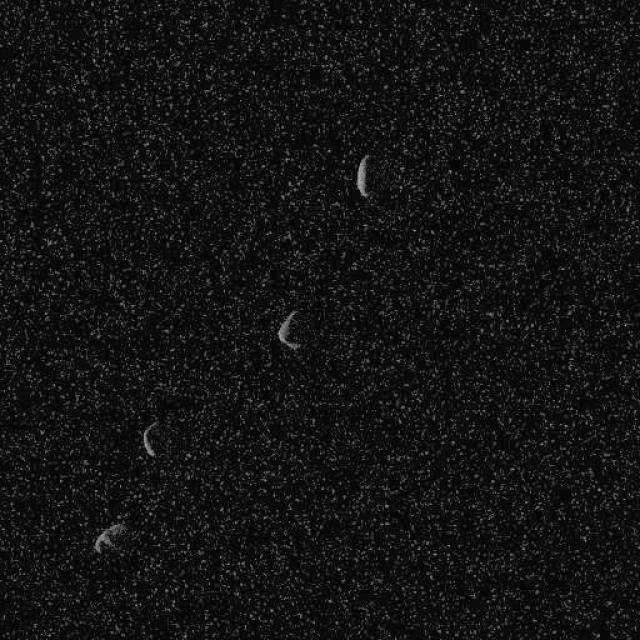D2: (92, 521, 126, 554), (276, 309, 302, 350), (354, 152, 370, 198), (141, 420, 159, 458)
